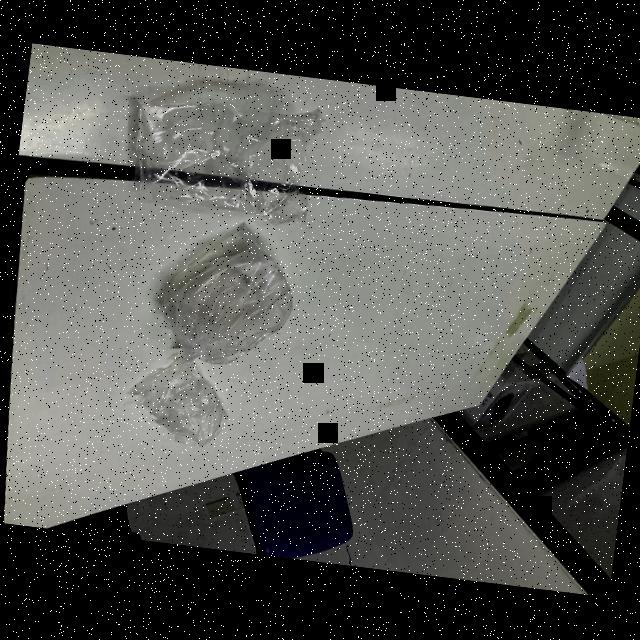plastic_bag: (112, 84, 328, 234), (150, 220, 304, 374), (122, 352, 240, 450)
